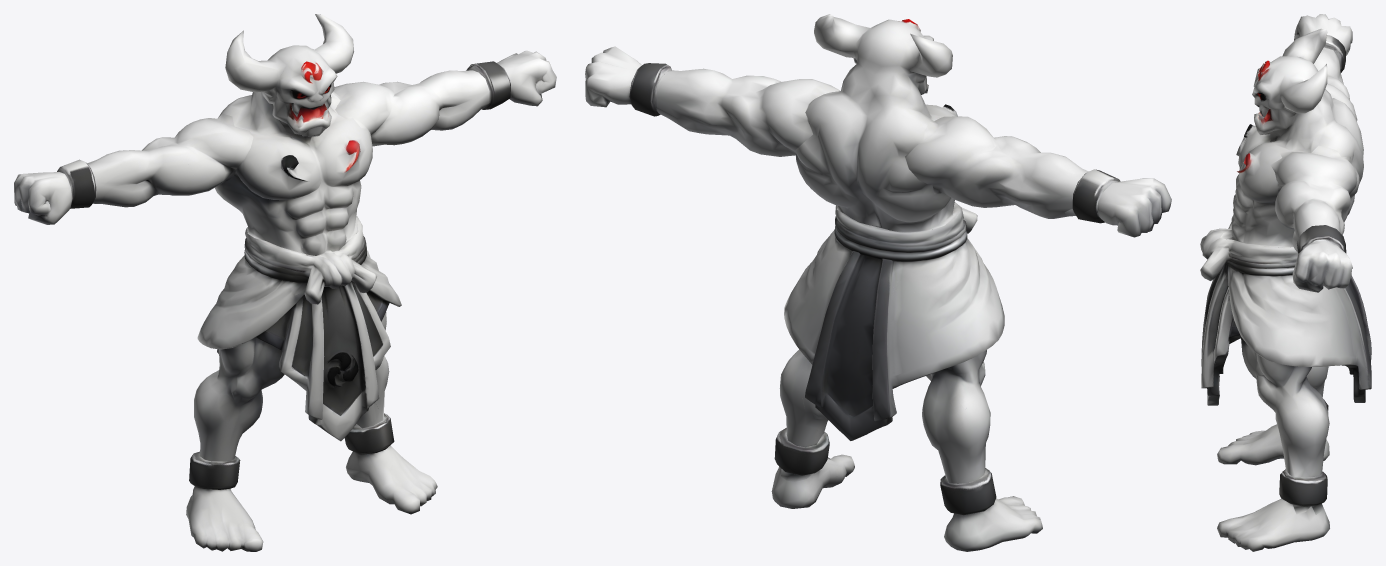
File: komabure_chara_last_boss3.glb
3 views of the same model, side by side, from view 1: azimuth 30°, elevation 25°; view 2: azimuth 150°, elevation 25°; view 3: azimuth 270°, elevation 25° (orthographic). The views are drawn at different scales.
Parts seen in each view (by area): view 1: tripo_part_1, tripo_part_0, tripo_part_4, tripo_part_5, tripo_part_2, tripo_part_11, tripo_part_12, tripo_part_6, tripo_part_7, tripo_part_13, tripo_part_8, tripo_part_9 (+2 smaller); view 2: tripo_part_0, tripo_part_1, tripo_part_4, tripo_part_5, tripo_part_2, tripo_part_11, tripo_part_6, tripo_part_3, tripo_part_7, tripo_part_12, tripo_part_8, tripo_part_13 (+2 smaller); view 3: tripo_part_0, tripo_part_1, tripo_part_3, tripo_part_5, tripo_part_12, tripo_part_7, tripo_part_11, tripo_part_8, tripo_part_6, tripo_part_4, tripo_part_10, tripo_part_2 (+1 smaller).
Boxes of the visible parts, <box> form: tripo_part_1: <box>215,14,372,257</box>; tripo_part_0: <box>197,215,401,441</box>; tripo_part_4: <box>87,113,253,207</box>; tripo_part_5: <box>332,70,489,146</box>; tripo_part_2: <box>194,337,284,461</box>; tripo_part_11: <box>186,486,263,551</box>; tripo_part_12: <box>346,445,437,514</box>; tripo_part_6: <box>14,172,72,224</box>; tripo_part_7: <box>497,50,556,106</box>; tripo_part_13: <box>189,451,240,489</box>; tripo_part_8: <box>344,413,394,455</box>; tripo_part_9: <box>57,159,96,208</box>; tripo_part_0: <box>784,202,1004,440</box>; tripo_part_1: <box>795,14,957,233</box>; tripo_part_4: <box>905,116,1088,218</box>; tripo_part_5: <box>656,68,840,158</box>; tripo_part_2: <box>922,350,990,483</box>; tripo_part_11: <box>944,496,1042,551</box>; tripo_part_6: <box>1097,178,1171,237</box>; tripo_part_3: <box>779,349,828,447</box>; tripo_part_7: <box>585,46,641,107</box>; tripo_part_12: <box>771,454,854,508</box>; tripo_part_8: <box>774,428,829,481</box>; tripo_part_13: <box>940,468,996,515</box>; tripo_part_0: <box>1200,222,1371,405</box>; tripo_part_1: <box>1220,28,1363,247</box>; tripo_part_3: <box>1241,338,1329,478</box>; tripo_part_5: <box>1270,145,1357,252</box>; tripo_part_12: <box>1217,498,1329,551</box>; tripo_part_7: <box>1292,241,1352,292</box>; tripo_part_11: <box>1217,424,1329,465</box>; tripo_part_8: <box>1279,469,1327,514</box>; tripo_part_6: <box>1294,14,1352,55</box>; tripo_part_4: <box>1314,47,1357,121</box>; tripo_part_10: <box>1297,225,1346,253</box>; tripo_part_2: <box>1306,366,1328,397</box>.
Bounding box in the file's own units: 0.9785 × 0.8408 × 0.2875.
14 materials, 14 textured.
